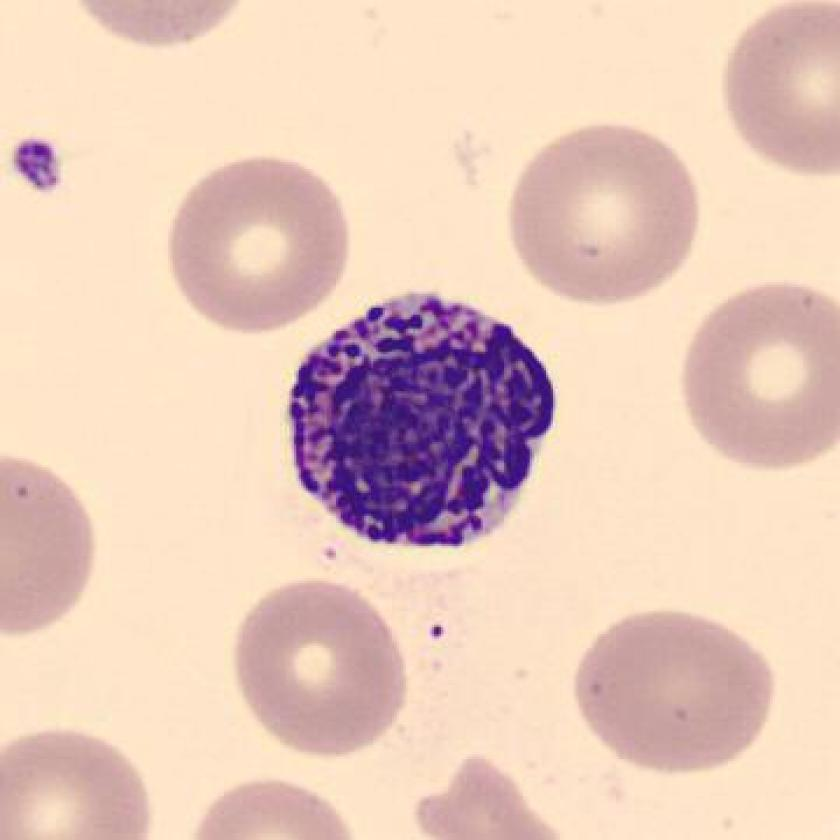basophil: (274, 274, 568, 563)
